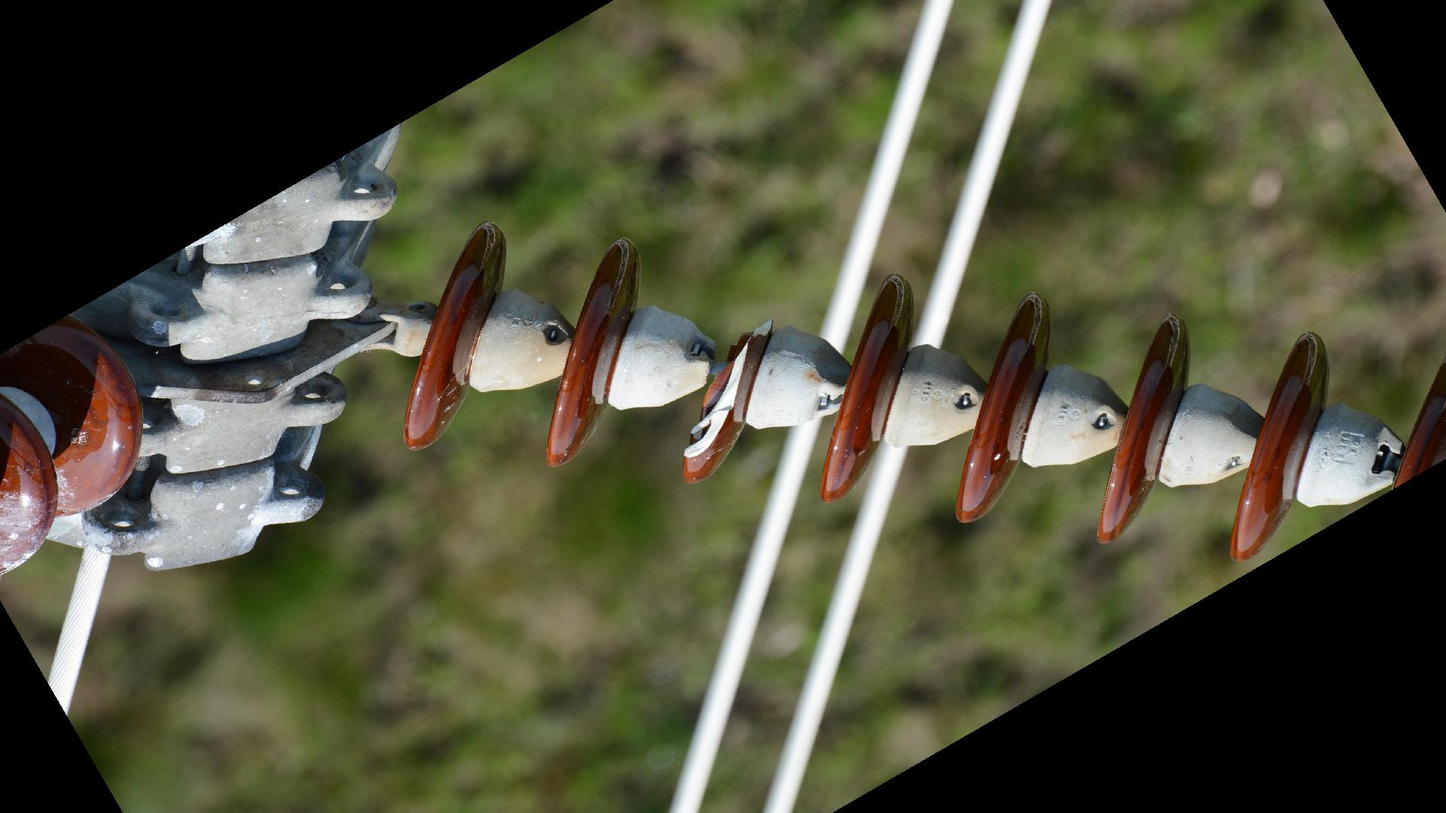insulator: (390, 216, 1446, 568), (1, 311, 155, 588)
insulator_breakage: (680, 312, 778, 468)
